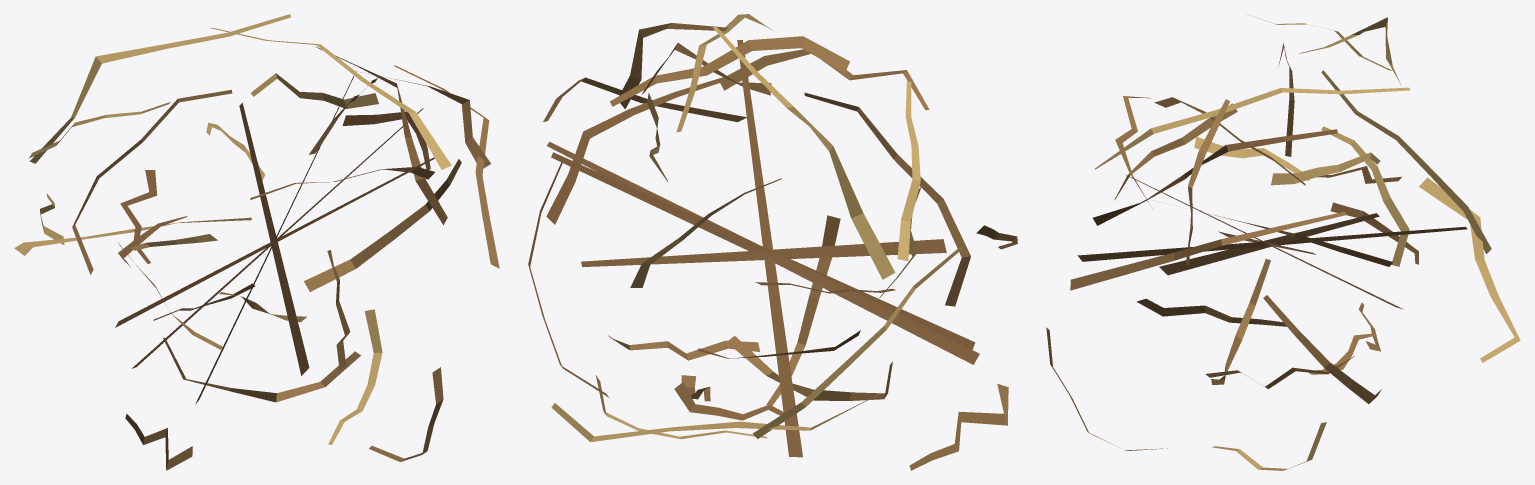
Rendered from tumbleweed_small.fbx.
3 renders of one model, left to right at view 1: azimuth 30°, elevation 25°; view 2: azimuth 150°, elevation 25°; view 3: azimuth 270°, elevation 25°, orthographic. The views are drawn at different scales.
Visible parts, largest first — view 1: tumbleweed_small; view 2: tumbleweed_small; view 3: tumbleweed_small.
Part boxes in pixels (x1,y1,x2,y2): tumbleweed_small: (14, 14, 499, 470); tumbleweed_small: (528, 14, 1017, 470); tumbleweed_small: (1046, 14, 1520, 470).
Bounding box in the file's own units: 41.81 × 40.45 × 43.96.
